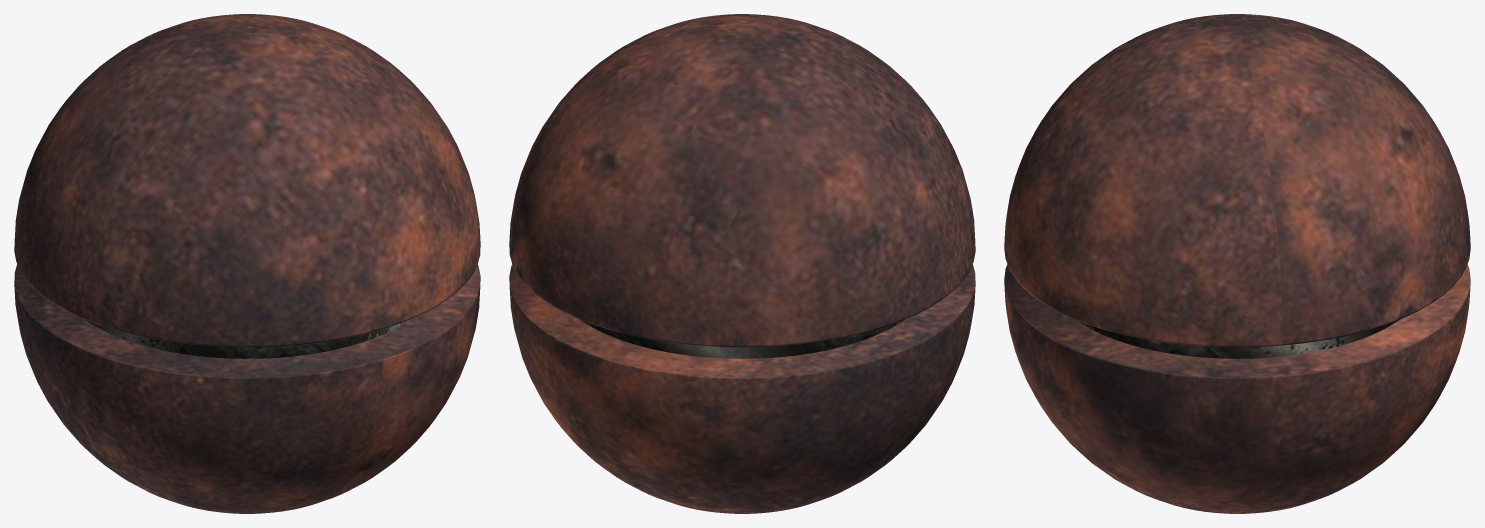
File: droid_anim_000005.obj
The picture shows the model from 3 angles, left to right: view 1: azimuth 30°, elevation 25°; view 2: azimuth 150°, elevation 25°; view 3: azimuth 270°, elevation 25°; orthographic projection.
Visible parts, largest first — view 1: Sphere.004, Sphere.005, Cylinder.002; view 2: Sphere.004, Sphere.005, Cylinder.002; view 3: Sphere.004, Sphere.005, Cylinder.002.
Part boxes in pixels (x1,y1,x2,y2): Sphere.004: [14, 14, 480, 347]; Sphere.005: [14, 264, 480, 513]; Cylinder.002: [86, 319, 409, 358]; Sphere.004: [509, 14, 975, 347]; Sphere.005: [509, 264, 975, 513]; Cylinder.002: [580, 319, 903, 358]; Sphere.004: [1004, 14, 1470, 347]; Sphere.005: [1004, 264, 1470, 513]; Cylinder.002: [1075, 319, 1399, 358].
Size of the model in its own units: 2 by 2.16 by 2.
3 materials, 3 textured.
